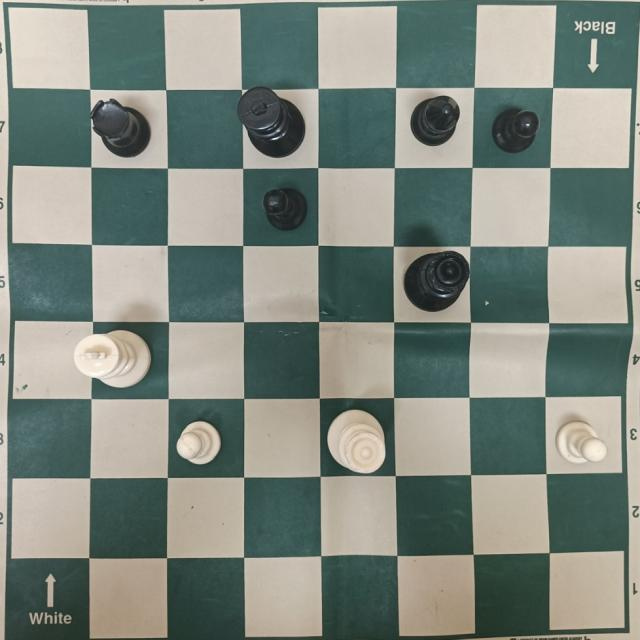black-bishop: (410, 95, 460, 148)
black-king: (235, 90, 306, 159)
black-pawn: (493, 109, 541, 152), (265, 188, 308, 232)
black-queen: (406, 253, 468, 311)
black-rook: (91, 99, 153, 157)
white-king: (73, 326, 152, 390)
white-pawn: (557, 420, 607, 465), (180, 418, 222, 466)
white-queen: (328, 409, 389, 474)
